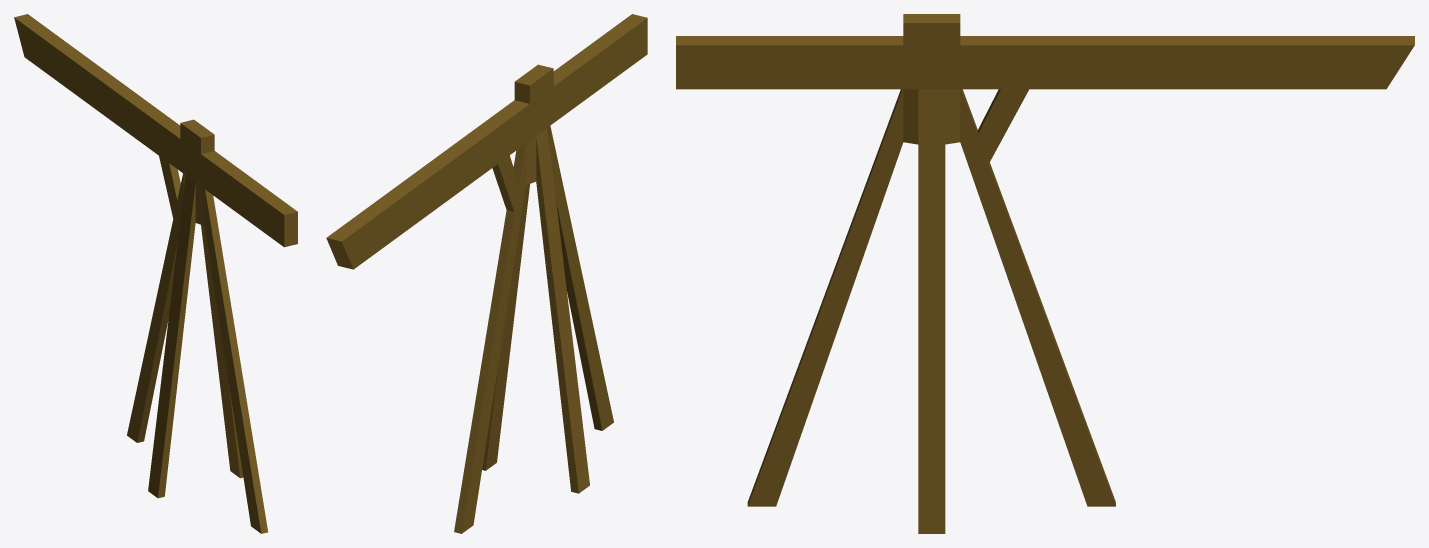
The picture shows the model from 3 angles, left to right: view 1: azimuth 30°, elevation 25°; view 2: azimuth 150°, elevation 25°; view 3: azimuth 270°, elevation 25°; orthographic projection. The views are drawn at different scales.
Bounding box in the file's own units: 0.8125 × 3.09 × 4.27.
